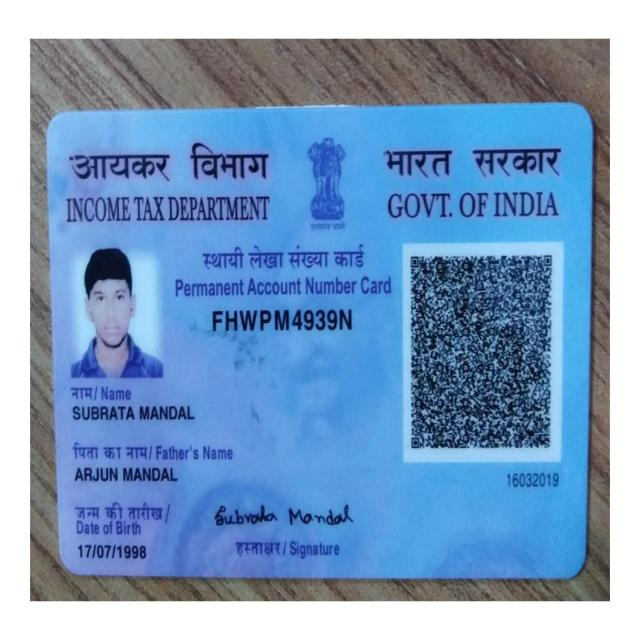pan_card: (48, 113, 589, 569)
